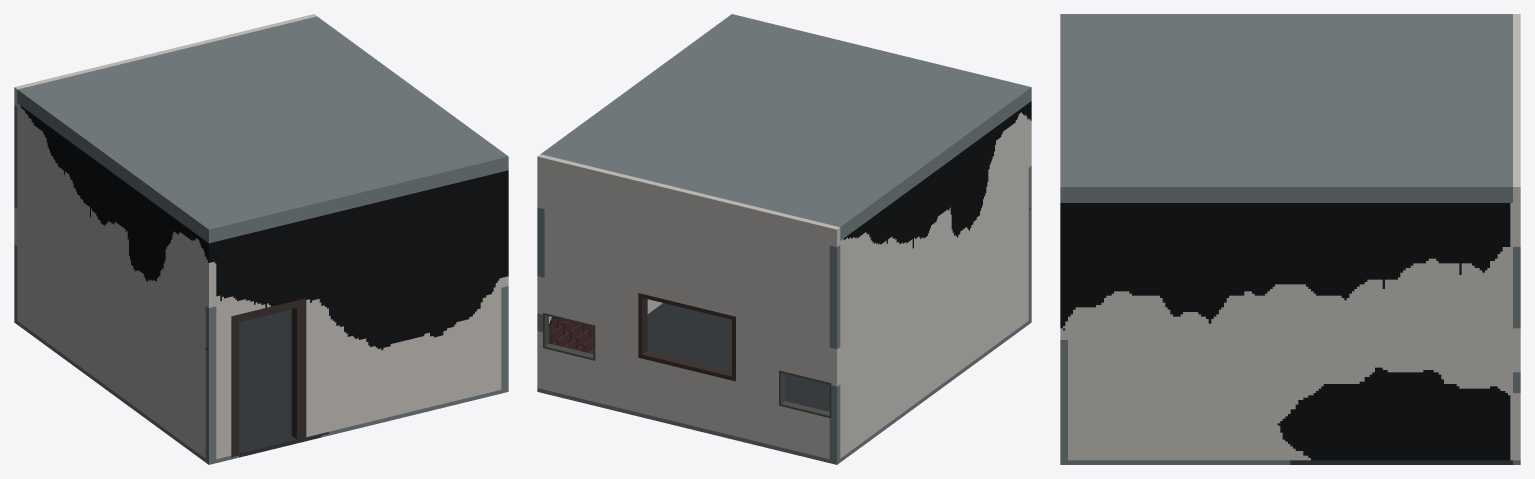
The model's file is Office.obj.
The picture shows the model from 3 angles, left to right: view 1: azimuth 30°, elevation 25°; view 2: azimuth 150°, elevation 25°; view 3: azimuth 270°, elevation 25°; orthographic projection. The views are drawn at different scales.
Visible parts, largest first — view 1: Sala; view 2: Sala; view 3: Sala.
Part boxes in pixels (x1,y1,x2,y2): Sala: [14, 14, 508, 464]; Sala: [537, 14, 1031, 464]; Sala: [1060, 14, 1520, 464].
Bounding box in the file's own units: 16 × 12 × 18.
1 material, 1 textured.
